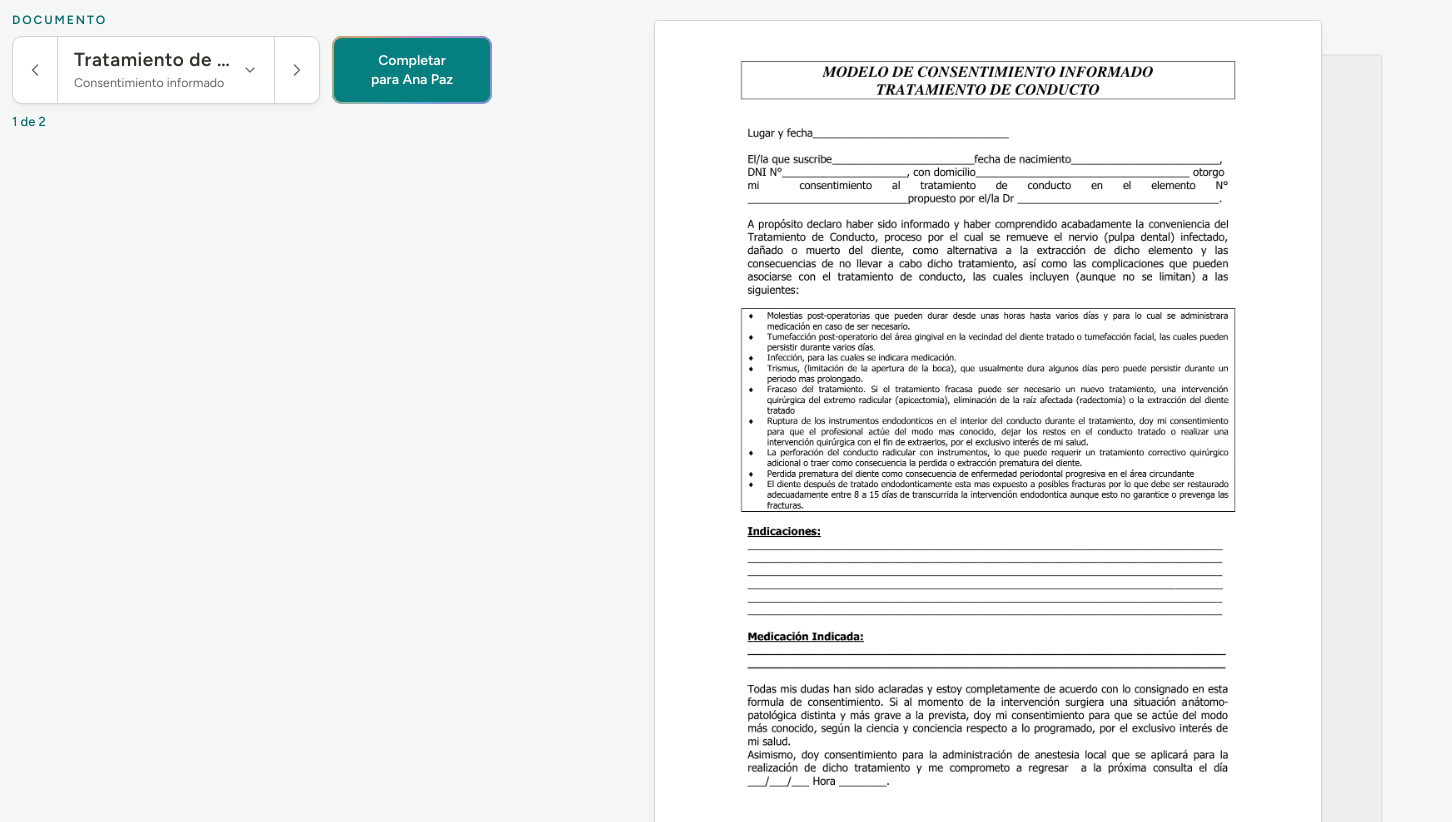
Test: ModuloDocumentos › desde la ficha, el documento ya es para ese paciente
The width and height of the screenshot is (1452, 822).
Click the button "Completar para Ana Paz": (412, 70) [332,36,492,104]
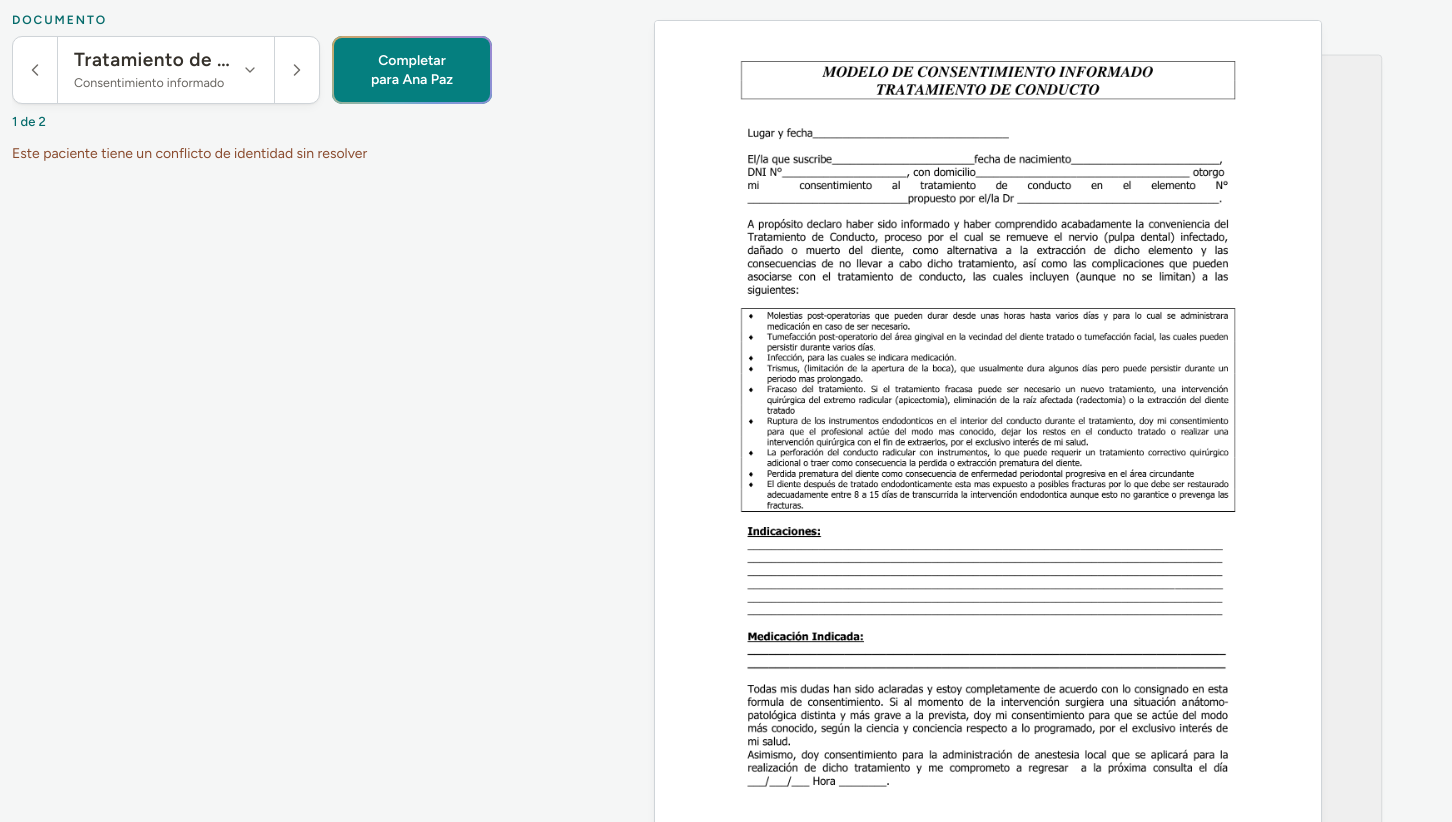
Result: the message shows "conflicto de identidad" at [12,144,367,162]
